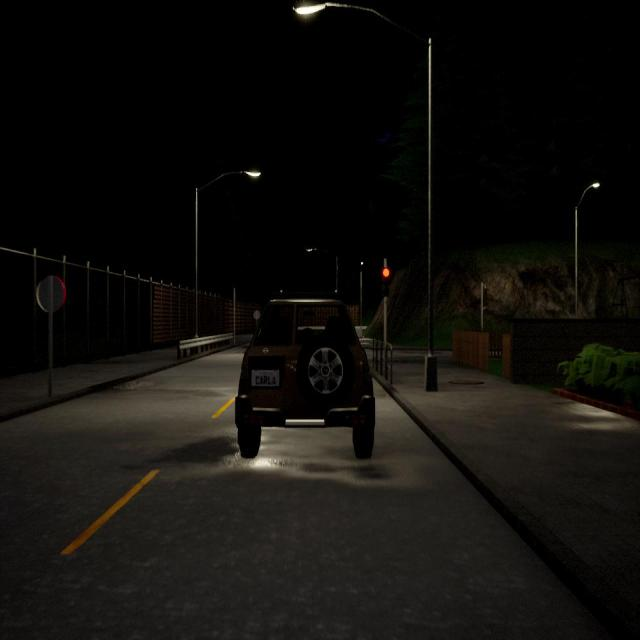Traffic_Signs: (36, 275, 66, 313), (253, 310, 261, 320)
Vehicle: (235, 294, 375, 457)
traffic_light: (381, 268, 391, 297), (484, 288, 488, 306)
